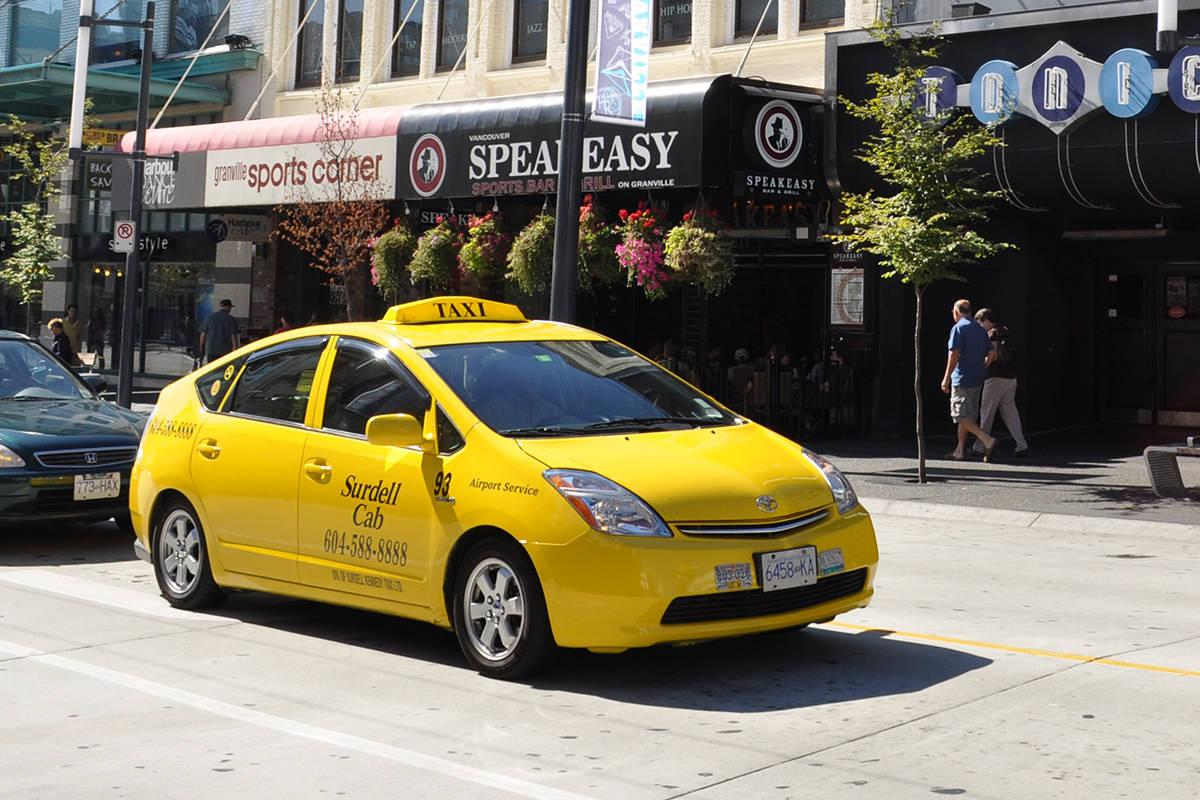taxi: (120, 301, 889, 685)
